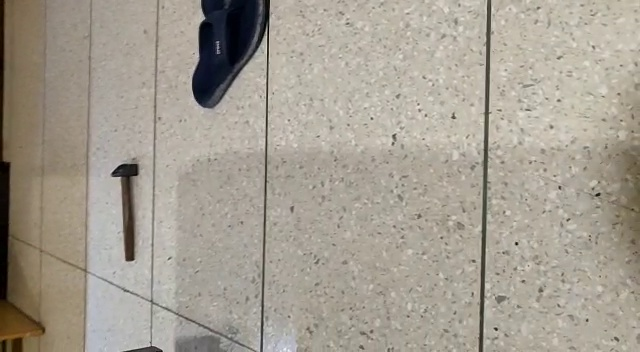hammer: (110, 163, 142, 260)
